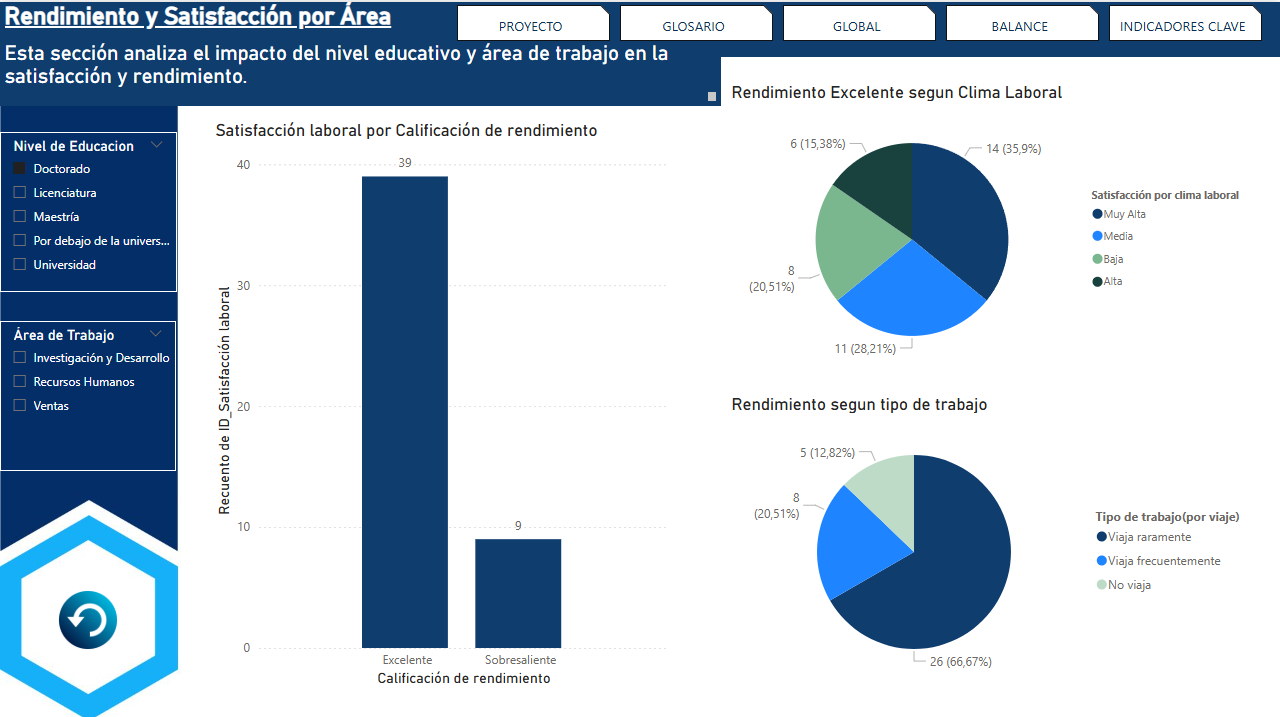

What the dashboard file says about the page in this screenshot:
{"tool":"powerbi","page":{"name":"RENDIMIENTO","canvas":[1280,720],"ordinal":4},"visuals":[{"type":"clusteredColumnChart","title":"Satisfacción laboral por Calificación de rendimiento","fields":{"Category":["ID_Calificacion de rendimiento.Calificación de rendimiento"],"Y":["CountNonNull(HR-Employee.ID_Satisfacción laboral)"]},"box":[211.1,118.2,462.1,570.6],"z":0},{"type":"slicer","fields":{"Values":["Área de Trabajo.Área de Trabajo"]},"box":[0,318.5,176.1,150.8],"z":1000},{"type":"slicer","fields":{"Values":["Nivel de Estudios.Nivel de Educacion"]},"box":[0,129.9,176.6,160.2],"z":2000},{"type":"pieChart","title":"Rendimiento Excelente segun Clima Laboral","fields":{"Category":["ID_Satisfacción_respecto al CL.Satisfacción respecto al clima laboral"],"Y":["Tabla Medidas.Recuento Rendimiento Excelente"]},"box":[727.5,79.6,528.4,296.8],"z":3000},{"type":"pieChart","title":"Rendimiento segun tipo de trabajo","fields":{"Category":["HR-Employee.Tipo_de_trabajo(por viaje)"],"Y":["Tabla Medidas.Recuento Rendimiento Excelente"]},"box":[727.5,392.1,528.4,296.8],"z":4000},{"type":"textbox","title":"Rendimiento y Satisfacción por Área","box":[0,0,1280,55.5],"z":5000},{"type":"textbox","title":"Esta sección analiza el impacto del nivel educativo y área de trabajo en la satisfacción y rendimiento.","box":[0,38.6,721.5,65.1],"z":6000},{"type":"pageNavigator","box":[457,2.7,808,35.9],"z":7000},{"type":"image","box":[52.1,572.8,71.8,88.9],"z":8000}]}

Visuals, with their boxes in screenshot pixels (x1, y1, x2, y2), scaled from the page's 1280x720 canvas onto the 1280x717 screenshot:
"Satisfacción laboral por Calificación de rendimiento" clusteredColumnChart: {"left": 211, "top": 118, "right": 673, "bottom": 686}
slicer - Área de Trabajo.Área de Trabajo: {"left": 0, "top": 317, "right": 176, "bottom": 467}
slicer - Nivel de Estudios.Nivel de Educacion: {"left": 0, "top": 129, "right": 177, "bottom": 289}
"Rendimiento Excelente segun Clima Laboral" pieChart: {"left": 728, "top": 79, "right": 1256, "bottom": 375}
"Rendimiento segun tipo de trabajo" pieChart: {"left": 728, "top": 390, "right": 1256, "bottom": 686}
"Rendimiento y Satisfacción por Área" textbox: {"left": 0, "top": 0, "right": 1279, "bottom": 55}
"Esta sección analiza el impacto del nivel educativo y área de trabajo en la satisfacción y rendimiento." textbox: {"left": 0, "top": 38, "right": 722, "bottom": 103}
pageNavigator: {"left": 457, "top": 3, "right": 1265, "bottom": 38}
image: {"left": 52, "top": 570, "right": 124, "bottom": 659}
